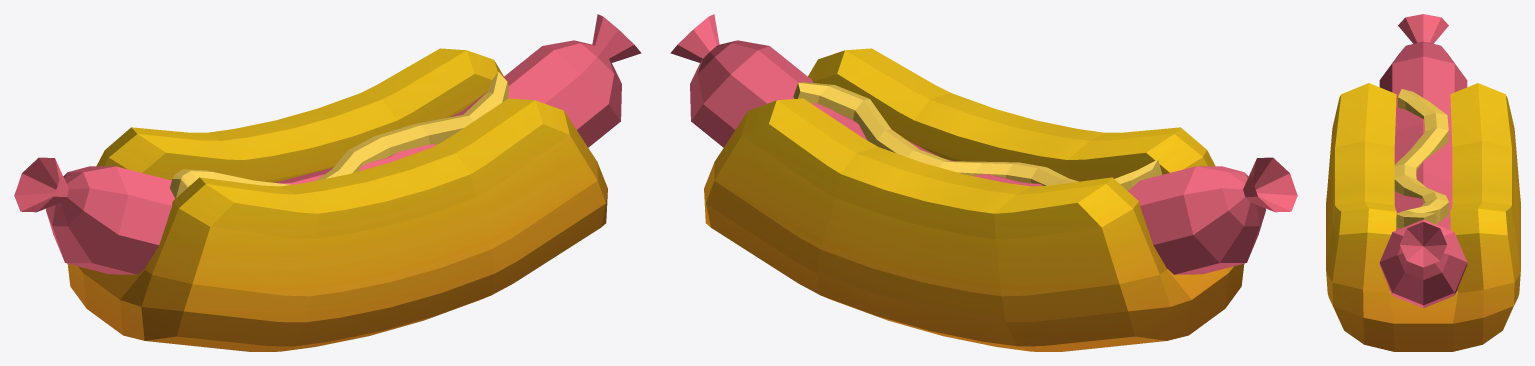
The model's file is sosisli.fbx.
The picture shows the model from 3 angles, left to right: view 1: azimuth 30°, elevation 25°; view 2: azimuth 150°, elevation 25°; view 3: azimuth 270°, elevation 25°; orthographic projection. The views are drawn at different scales.
Parts seen in each view (by area): view 1: hotdogcar; view 2: hotdogcar; view 3: hotdogcar.
Boxes of the visible parts, x1=… form: hotdogcar: x1=14, y1=14, x2=641, y2=351; hotdogcar: x1=670, y1=14, x2=1297, y2=351; hotdogcar: x1=1326, y1=14, x2=1520, y2=351.
Bounding box in the file's own units: 157 × 56.77 × 53.84.
Materials: 1 (1 with a texture image).
